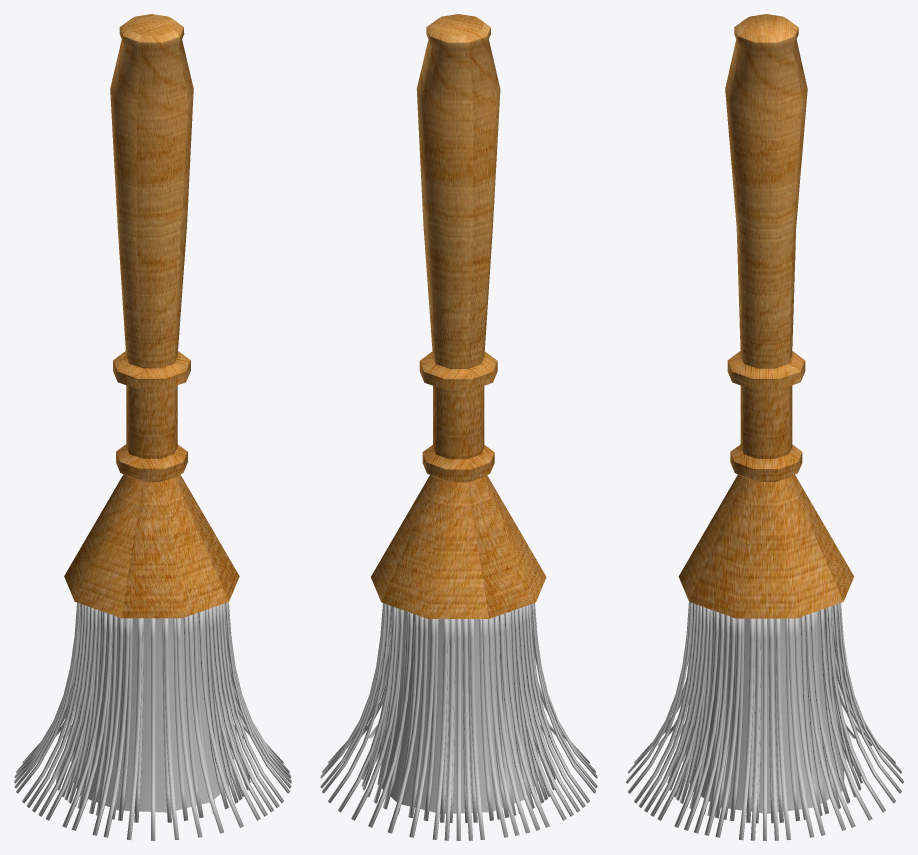
Rendered from duster1234.FBX.
3 views of the same model, side by side, from view 1: azimuth 30°, elevation 25°; view 2: azimuth 150°, elevation 25°; view 3: azimuth 270°, elevation 25° (orthographic).
Parts seen in each view (by area): view 1: Cylinder001, Line010, Line009, Cylinder002; view 2: Cylinder001, Line010, Line009, Cylinder002; view 3: Cylinder001, Line010, Line009, Cylinder002.
Part boxes in pixels (x1=…): Cylinder001: x1=64, y1=14, x2=239, y2=618; Line010: x1=14, y1=602, x2=291, y2=840; Line009: x1=14, y1=602, x2=291, y2=840; Cylinder002: x1=71, y1=612, x2=231, y2=812; Cylinder001: x1=371, y1=14, x2=546, y2=618; Line010: x1=322, y1=603, x2=595, y2=840; Line009: x1=320, y1=603, x2=597, y2=840; Cylinder002: x1=377, y1=610, x2=537, y2=813; Cylinder001: x1=678, y1=14, x2=854, y2=618; Line010: x1=627, y1=602, x2=903, y2=840; Line009: x1=626, y1=602, x2=903, y2=840; Cylinder002: x1=690, y1=610, x2=844, y2=813.
Size of the model in its own units: 27.79 by 83.68 by 27.81.
